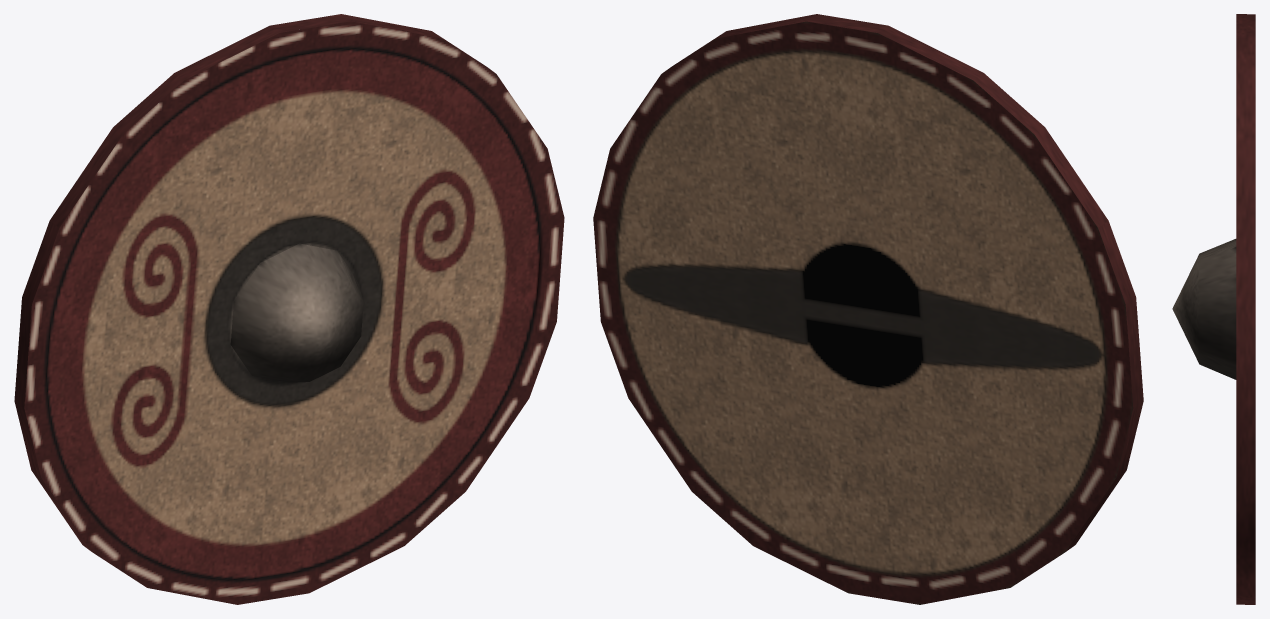
File: shield_round_small.glb
3 views of the same model, side by side, from view 1: azimuth 30°, elevation 25°; view 2: azimuth 150°, elevation 25°; view 3: azimuth 270°, elevation 25° (orthographic). The views are drawn at different scales.
Visible parts, largest first — view 1: Shield; view 2: Shield; view 3: Shield.
Part boxes in pixels (left/top/right/bottom): Shield: left=14, top=14, right=564, bottom=604; Shield: left=593, top=14, right=1143, bottom=604; Shield: left=1172, top=14, right=1255, bottom=604.
Size of the model in its own units: 0.5262 by 0.5282 by 0.0746.
Materials: 1 (1 with a texture image).
